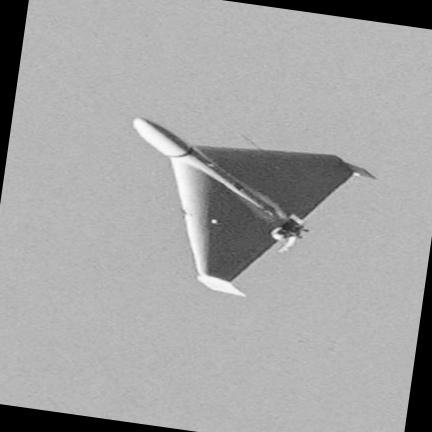Shahed: (133, 117, 374, 296)
